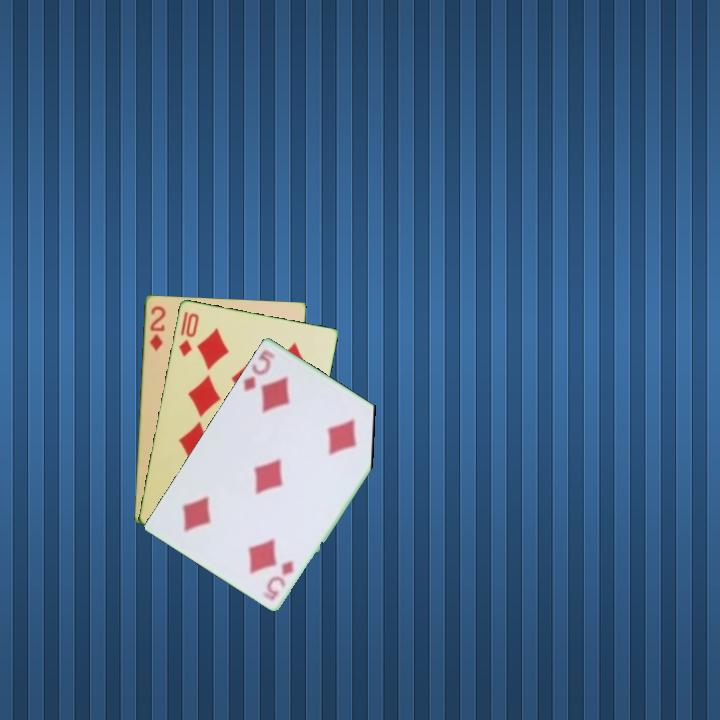10d: (175, 309, 201, 359)
2d: (146, 302, 168, 354)
5d: (240, 345, 278, 394), (263, 557, 297, 603)
